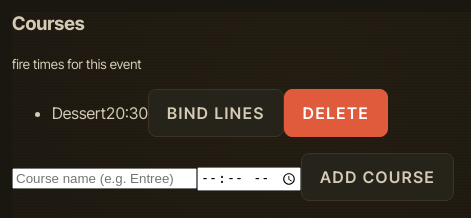
Scenario: CoursePanel › delete course: posts DELETE then removes from list
The width and height of the screenshot is (471, 218).
Expected: the text "Dessert" is shown, [52, 103, 106, 123]
Click the button with aria-label "delete dessert" at (336, 113), box [284, 89, 388, 137]
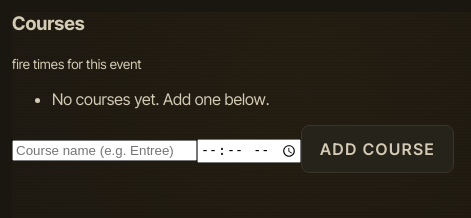
Result: the text "Dessert" is gone
